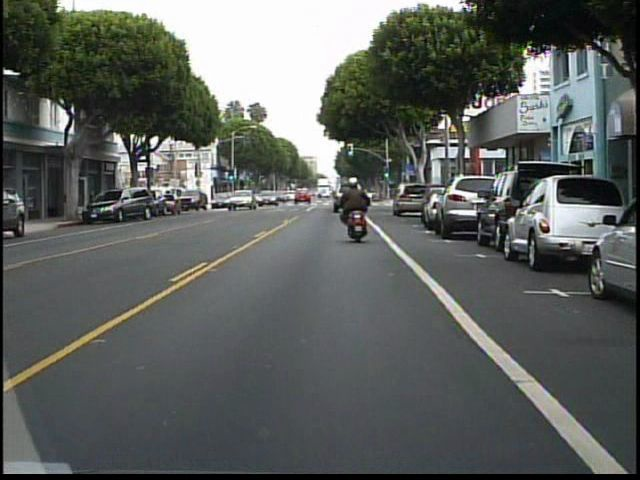person: (335, 171, 373, 240)
